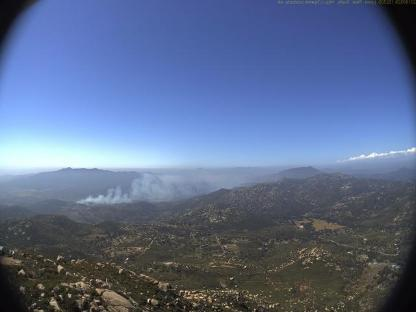smoke: (76, 164, 220, 206)
